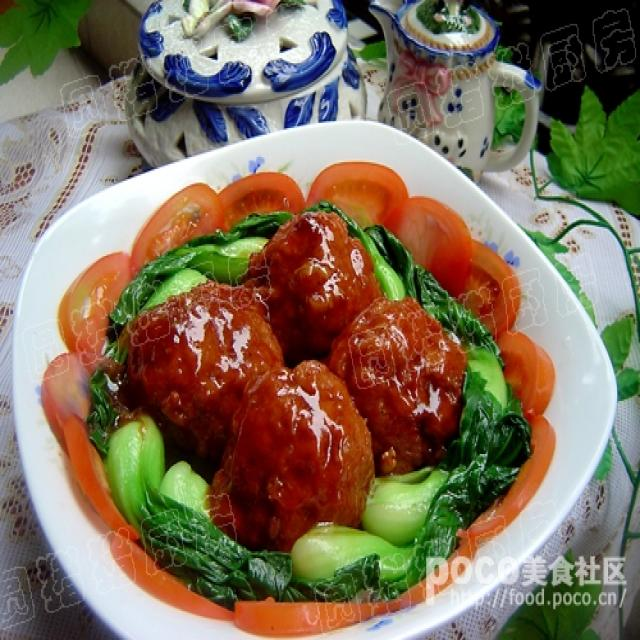meatball: (124, 268, 300, 476), (218, 353, 386, 550), (314, 290, 485, 480), (248, 191, 397, 386)
